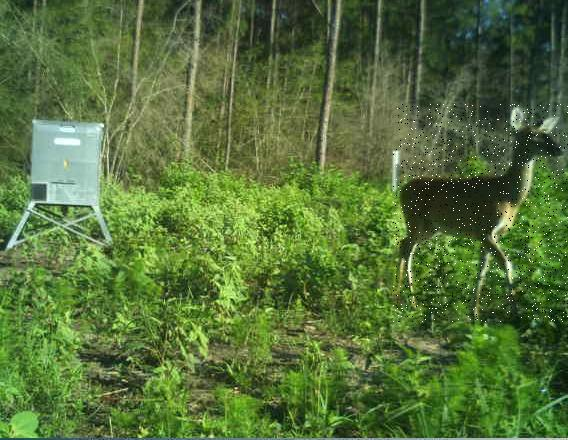Deer: (393, 104, 568, 322)
